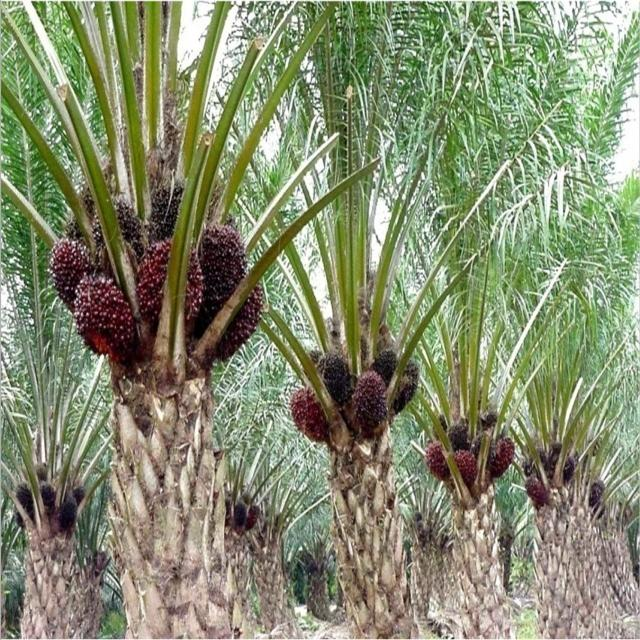FFB: (134, 237, 203, 340), (190, 221, 245, 339), (76, 279, 137, 374), (91, 191, 147, 291), (214, 269, 267, 360), (52, 240, 97, 310), (354, 372, 388, 433), (322, 349, 353, 414), (294, 387, 329, 444), (488, 434, 516, 483), (425, 440, 451, 488), (451, 449, 477, 486), (14, 482, 35, 525), (528, 476, 546, 508), (449, 424, 471, 450), (61, 500, 78, 532), (531, 452, 551, 476), (589, 479, 605, 507), (248, 499, 260, 534), (482, 408, 501, 428), (429, 416, 448, 436), (41, 487, 57, 507), (561, 462, 575, 484), (235, 501, 245, 528), (36, 461, 47, 480)
